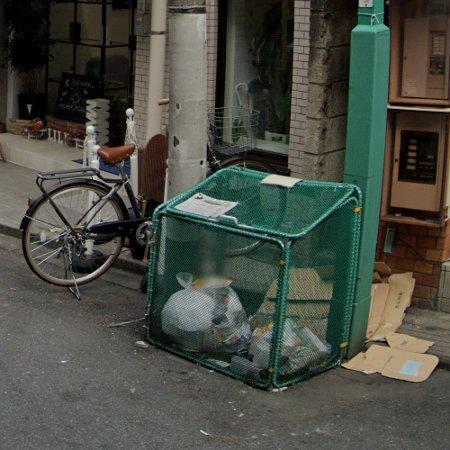bicycles: (20, 144, 151, 294)
